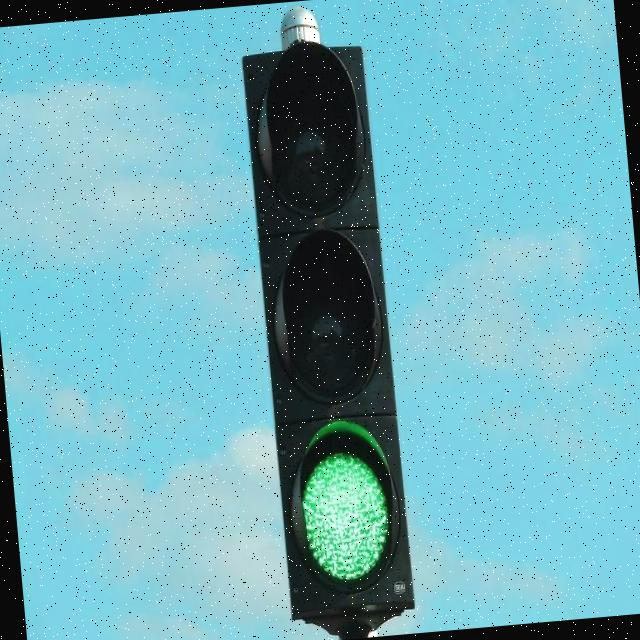Zielone swiatlo: (244, 49, 415, 610)
